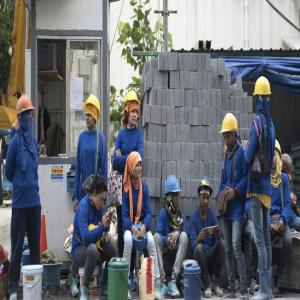blue: (166, 174, 182, 211), (199, 176, 213, 211)
none: (92, 175, 108, 211), (129, 152, 143, 183)
yellow: (254, 75, 272, 113), (124, 91, 141, 128), (17, 96, 35, 130), (223, 114, 240, 150), (84, 97, 102, 130), (271, 139, 281, 171)
